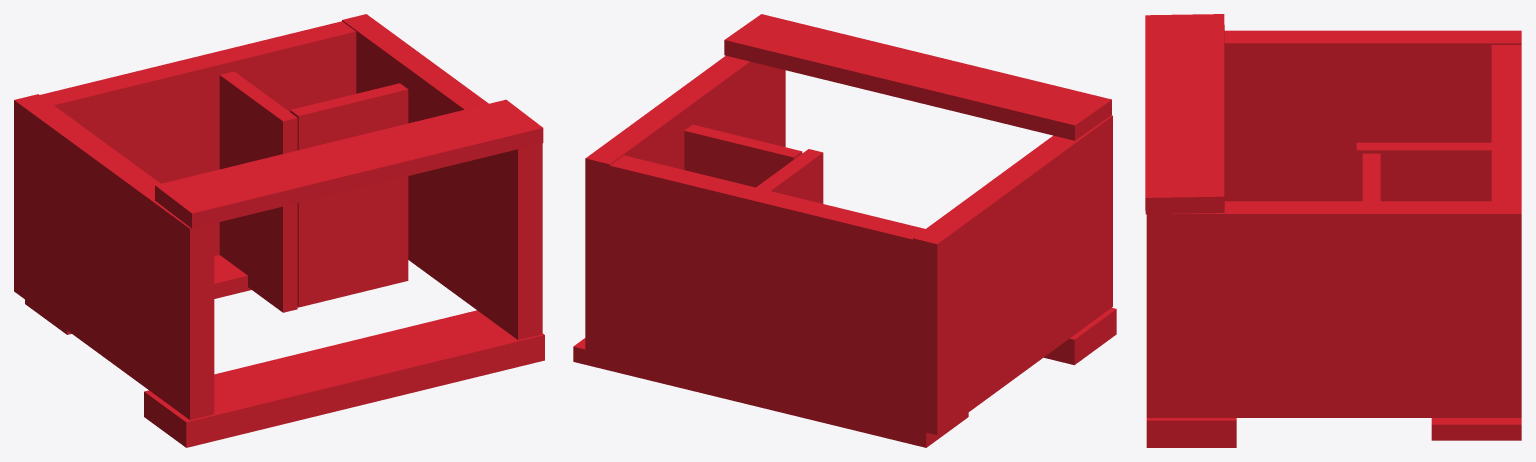
Rendered from tinker.obj.
The picture shows the model from 3 angles, left to right: view 1: azimuth 30°, elevation 25°; view 2: azimuth 150°, elevation 25°; view 3: azimuth 270°, elevation 25°; orthographic projection. The views are drawn at different scales.
Visible parts, largest first — view 1: obj_0; view 2: obj_0; view 3: obj_0.
Boxes of the visible parts, x1,y1,x2,y2 form: obj_0: (14, 14, 544, 447); obj_0: (573, 14, 1116, 447); obj_0: (1145, 14, 1521, 447).
Size of the model in its own units: 302 by 184 by 251.
